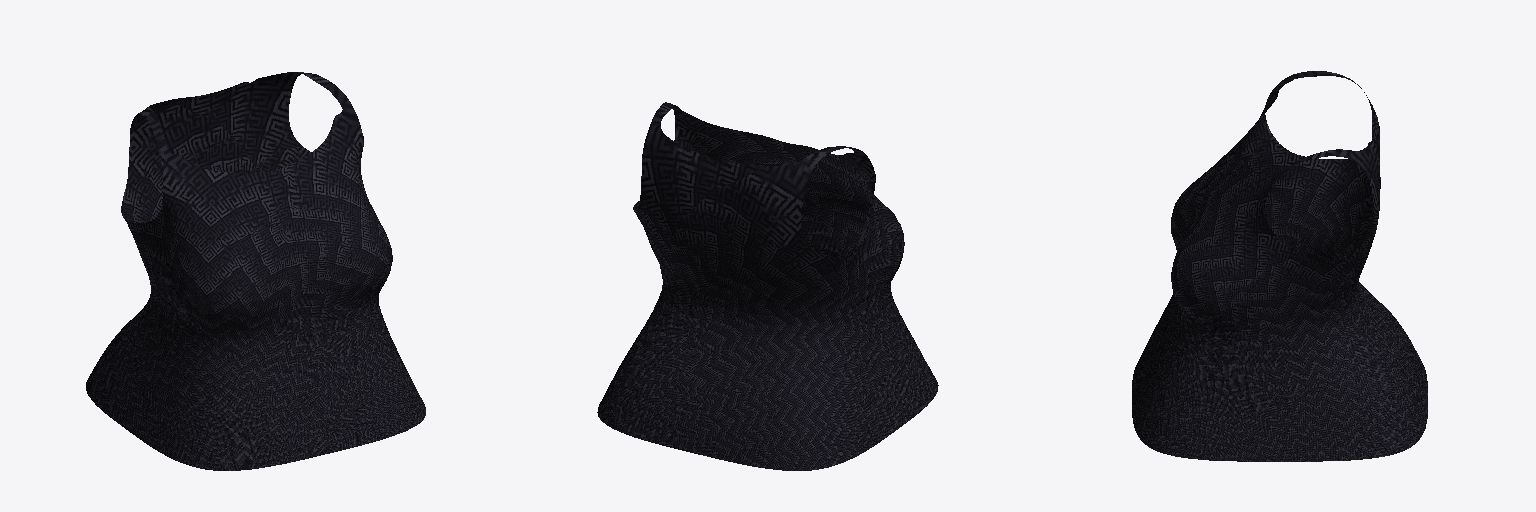
3 renders of one model, left to right at view 1: azimuth 30°, elevation 25°; view 2: azimuth 150°, elevation 25°; view 3: azimuth 270°, elevation 25°, orthographic.
Visible parts, largest first — view 1: Cube.001; view 2: Cube.001; view 3: Cube.001.
Part boxes in pixels (x1,y1,x2,y2): Cube.001: (86,72,425,470); Cube.001: (597,102,938,470); Cube.001: (1132,71,1427,461).
Size of the model in its own units: 0.2497 by 0.2661 by 0.2498.
Materials: 1 (1 with a texture image).